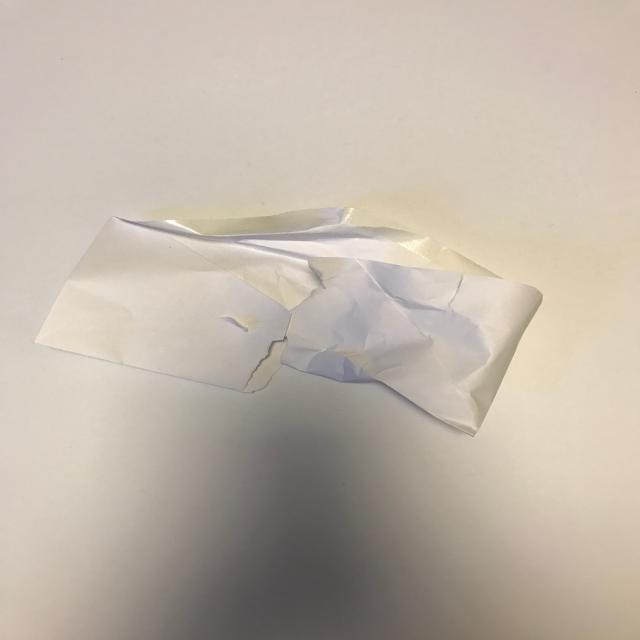paper: (33, 206, 544, 436)
